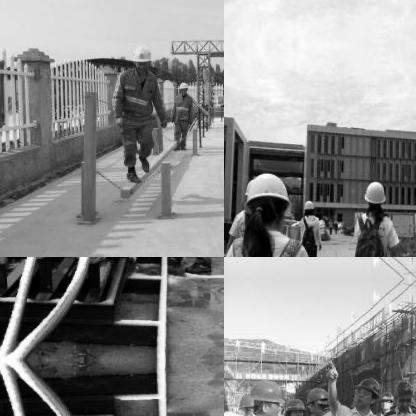Helmet: (243, 168, 291, 228), (247, 380, 283, 415), (352, 375, 378, 411), (359, 178, 385, 212), (305, 380, 327, 414), (129, 42, 153, 73), (394, 378, 415, 408), (282, 397, 304, 415), (376, 388, 392, 412), (301, 197, 315, 216), (176, 80, 188, 96)
